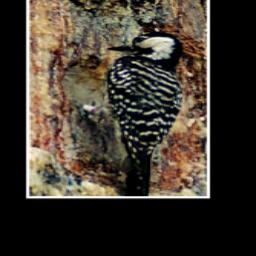Woodpecker: (67, 26, 190, 198)
